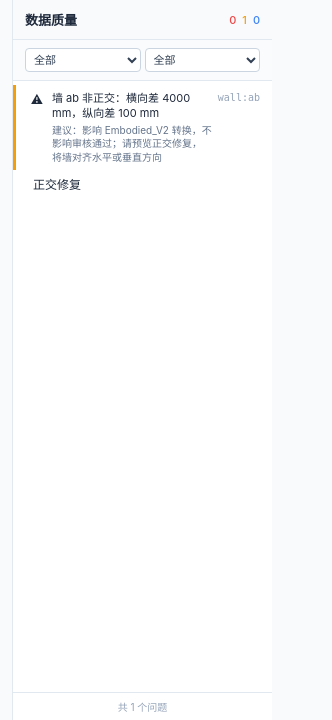
Test: DataQualityPanel › blocks an invalid direction and allows switching back without changing geometry
The image size is (332, 720).
Click the button with aria-label "正交修复 ab" at (57, 184), box [25,170,89,197]
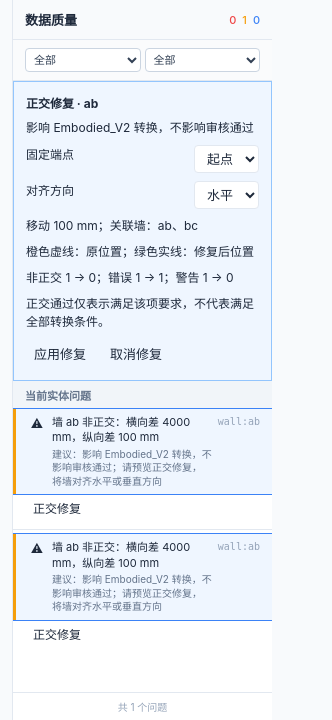
Select "垂直" in the dropdown labelled "对齐方向" at (226, 195), box [194,181,259,209]
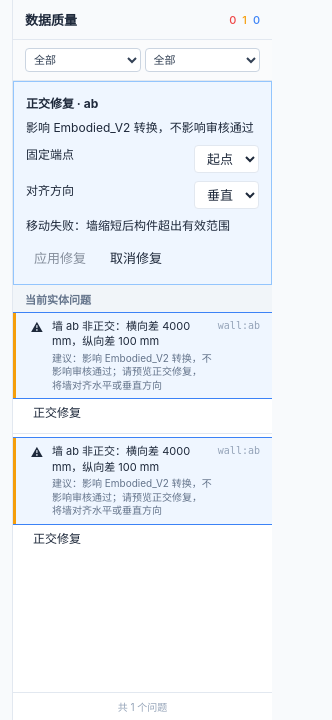
expect the message shows "构件超出有效范围": met, box [26,218,230,233]
expect the button "应用修复" is disabled: met, box [26,243,94,272]
Select "水平" in the dropdown labelled "对齐方向" at (226, 195), box [194,181,259,209]
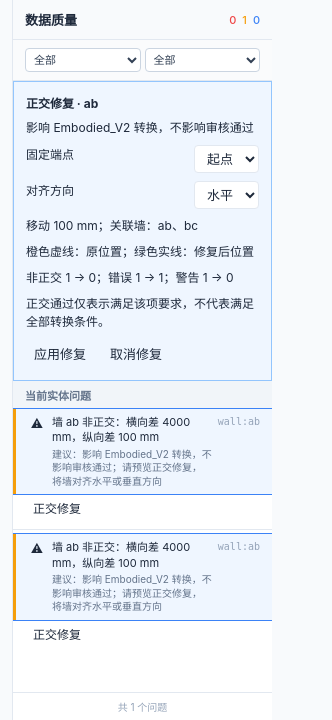
expect the button "应用修复" is enabled: met, box [26,339,94,368]
